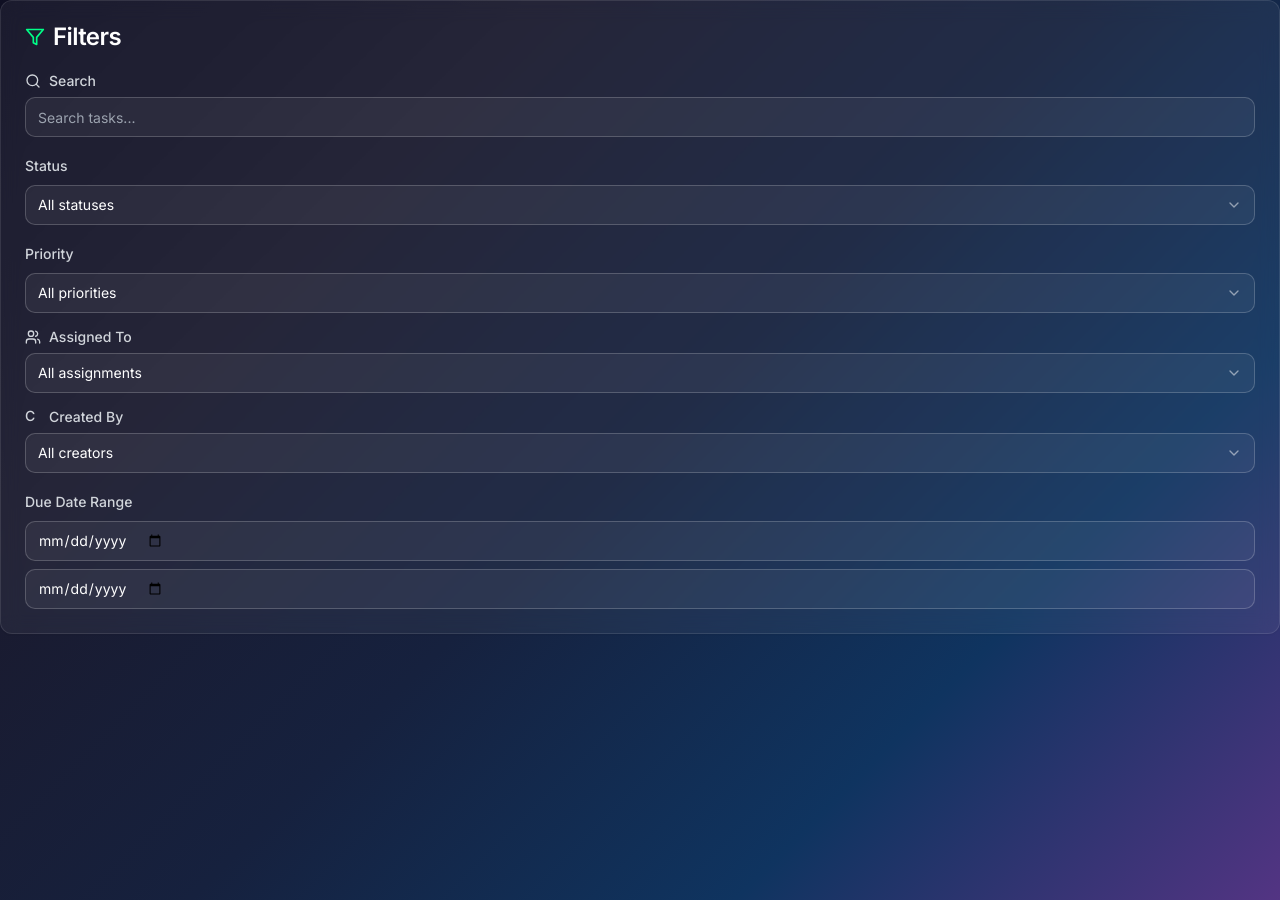
TaskFilters › shows active filter indicators
The image size is (1280, 900).
In the field with placeholder "Search tasks...": (640, 117) x1=25 y1=97 x2=1255 y2=137, type "Test"
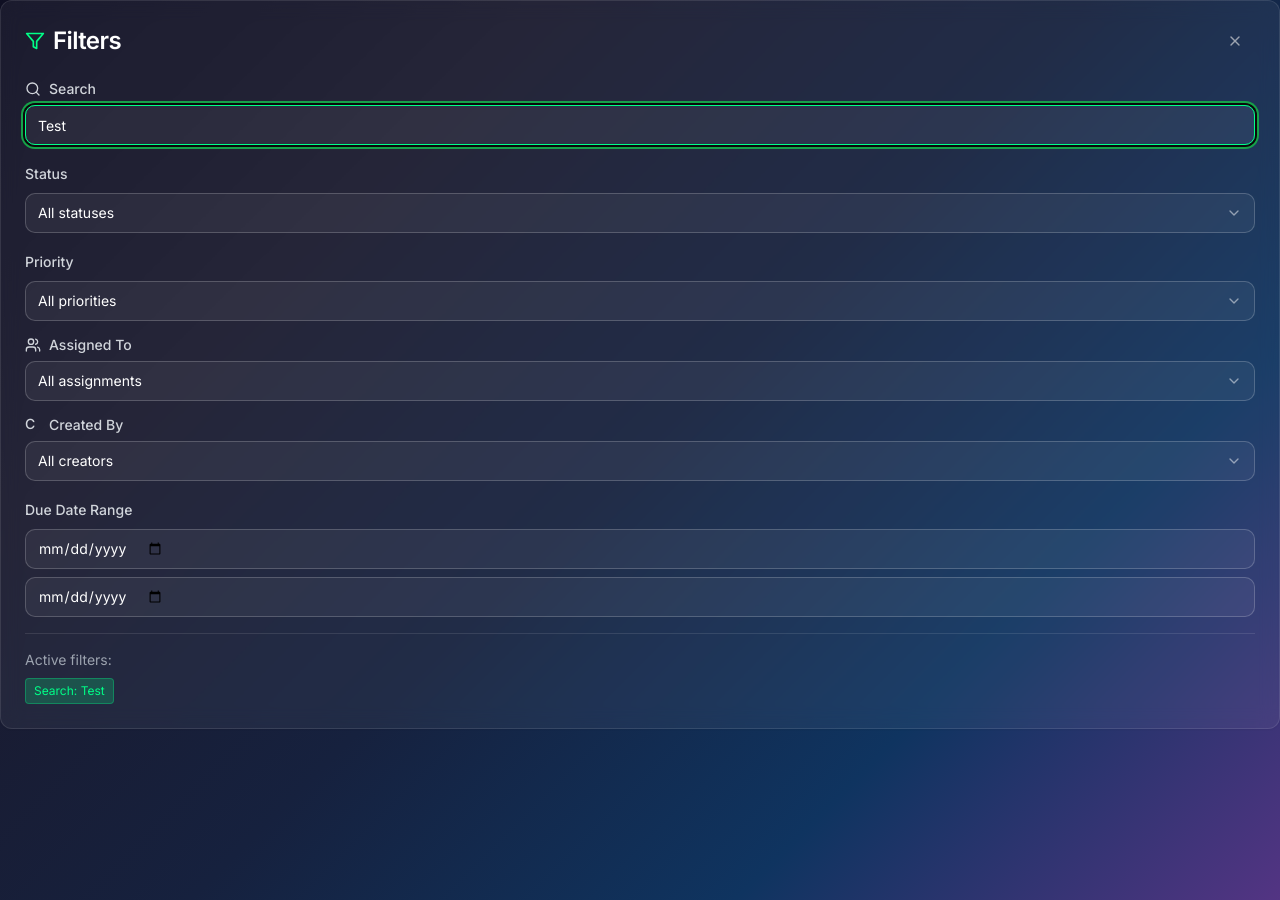
Result: the text "Search: Test" is shown at x1=25 y1=678 x2=114 y2=704
